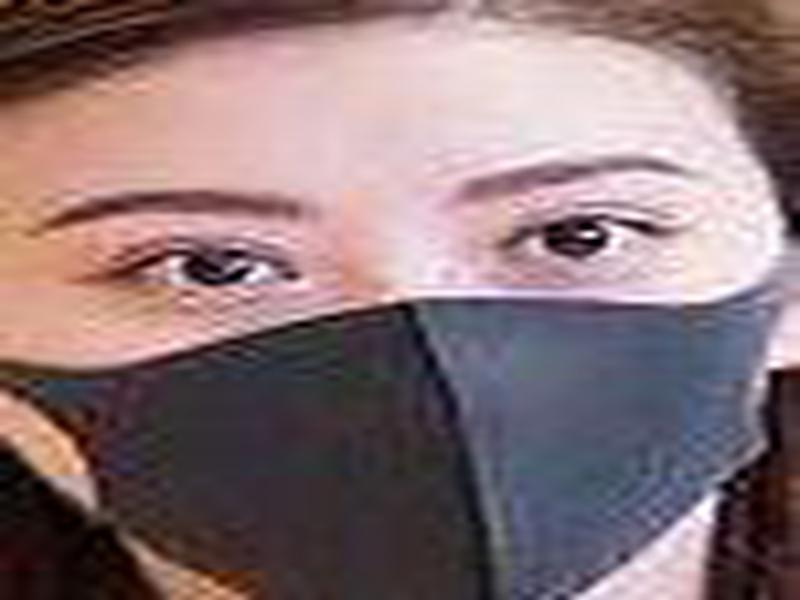with_mask: (1, 24, 793, 597)
